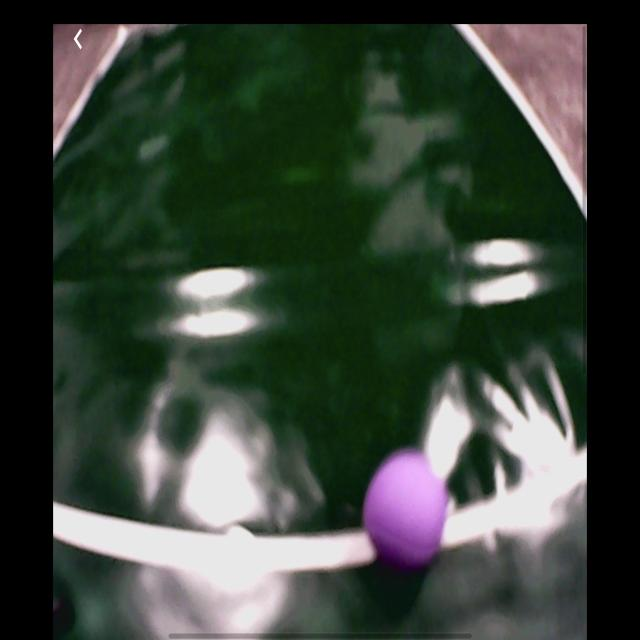ball: (363, 447, 451, 571)
